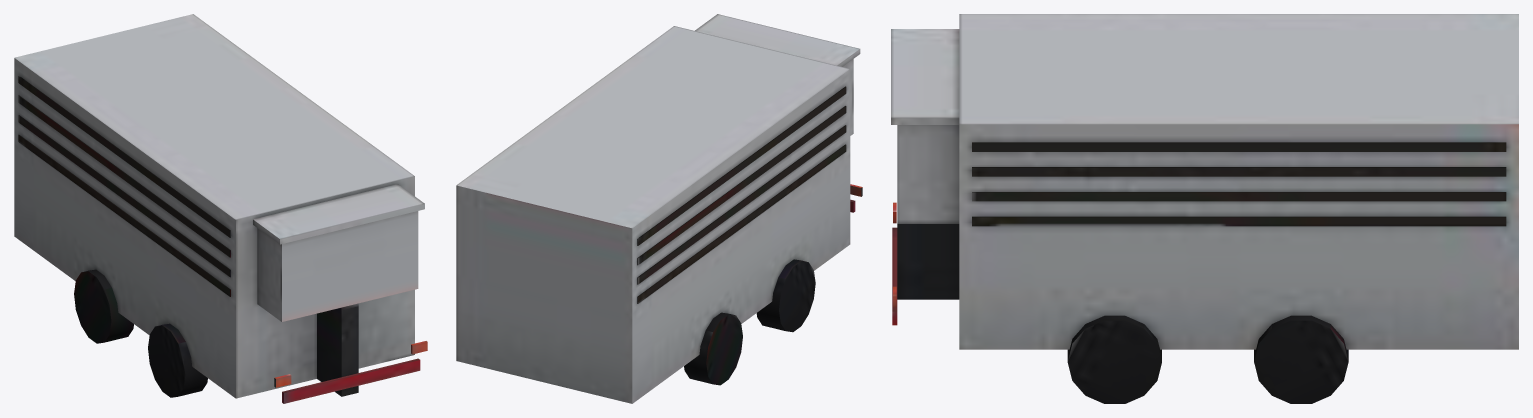
The model's file is remolque_ganado.glb.
The picture shows the model from 3 angles, left to right: view 1: azimuth 30°, elevation 25°; view 2: azimuth 150°, elevation 25°; view 3: azimuth 270°, elevation 25°; orthographic projection. The views are drawn at different scales.
Visible parts, largest first — view 1: remolque_ganado; view 2: remolque_ganado; view 3: remolque_ganado.
Boxes of the visible parts, x1=… form: remolque_ganado: x1=14, y1=14, x2=427, y2=403; remolque_ganado: x1=456, y1=14, x2=862, y2=403; remolque_ganado: x1=891, y1=14, x2=1518, y2=403.
Size of the model in its own units: 2.28 by 2.44 by 5.05.
1 material, 1 textured.
